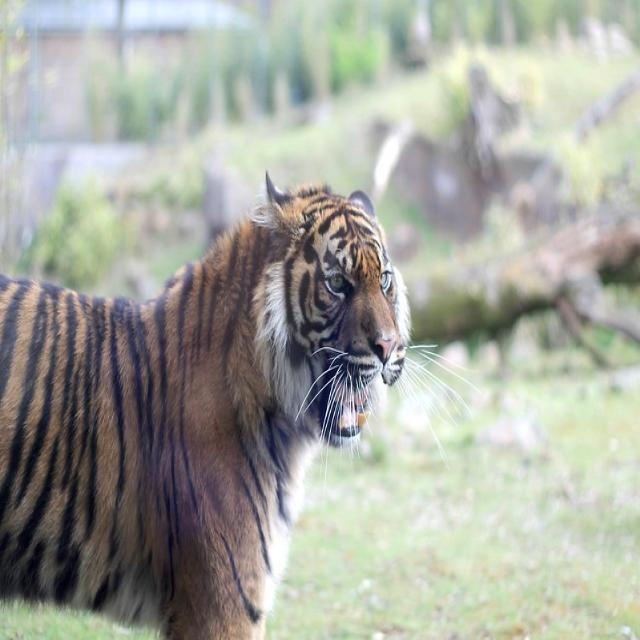Tiger: (0, 165, 413, 632)
